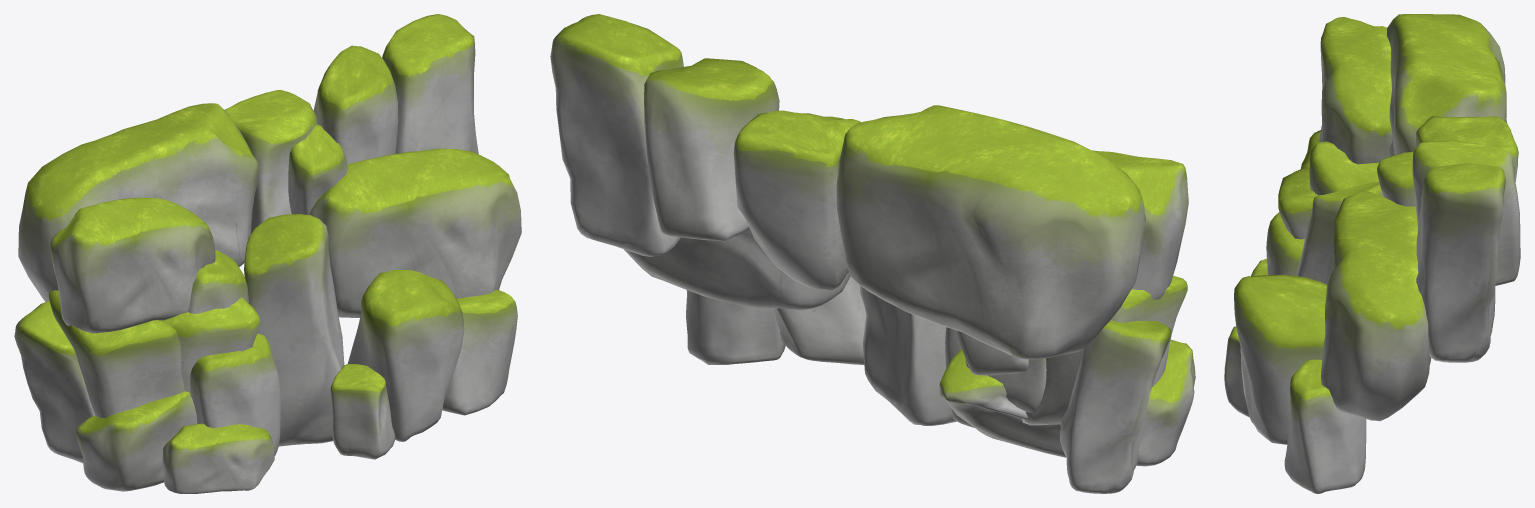
Rendered from SM_cliff_01.fbx.
The picture shows the model from 3 angles, left to right: view 1: azimuth 30°, elevation 25°; view 2: azimuth 150°, elevation 25°; view 3: azimuth 270°, elevation 25°; orthographic projection. The views are drawn at different scales.
Parts seen in each view (by area): view 1: Object32424; view 2: Object32424; view 3: Object32424.
Part boxes in pixels (box(x1,y1,x2,y2)): Object32424: box(14, 14, 521, 493); Object32424: box(550, 14, 1195, 493); Object32424: box(1224, 14, 1520, 493).
Size of the model in its own units: 461 by 288 by 235.
